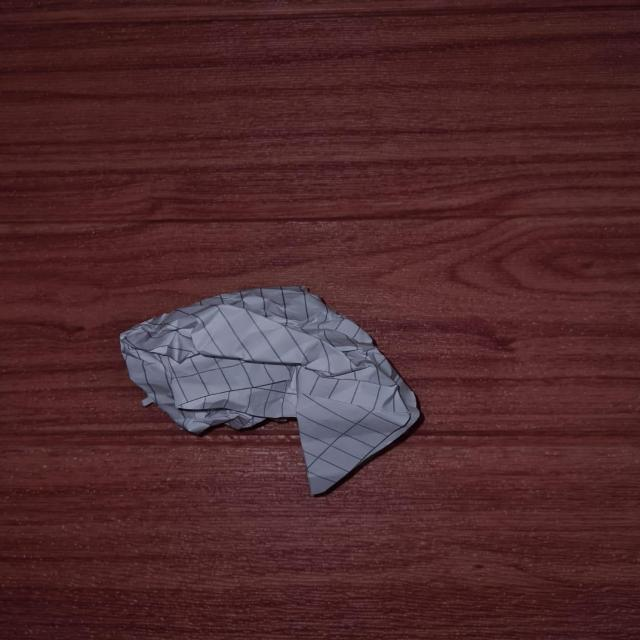kertas: (126, 284, 404, 484)
